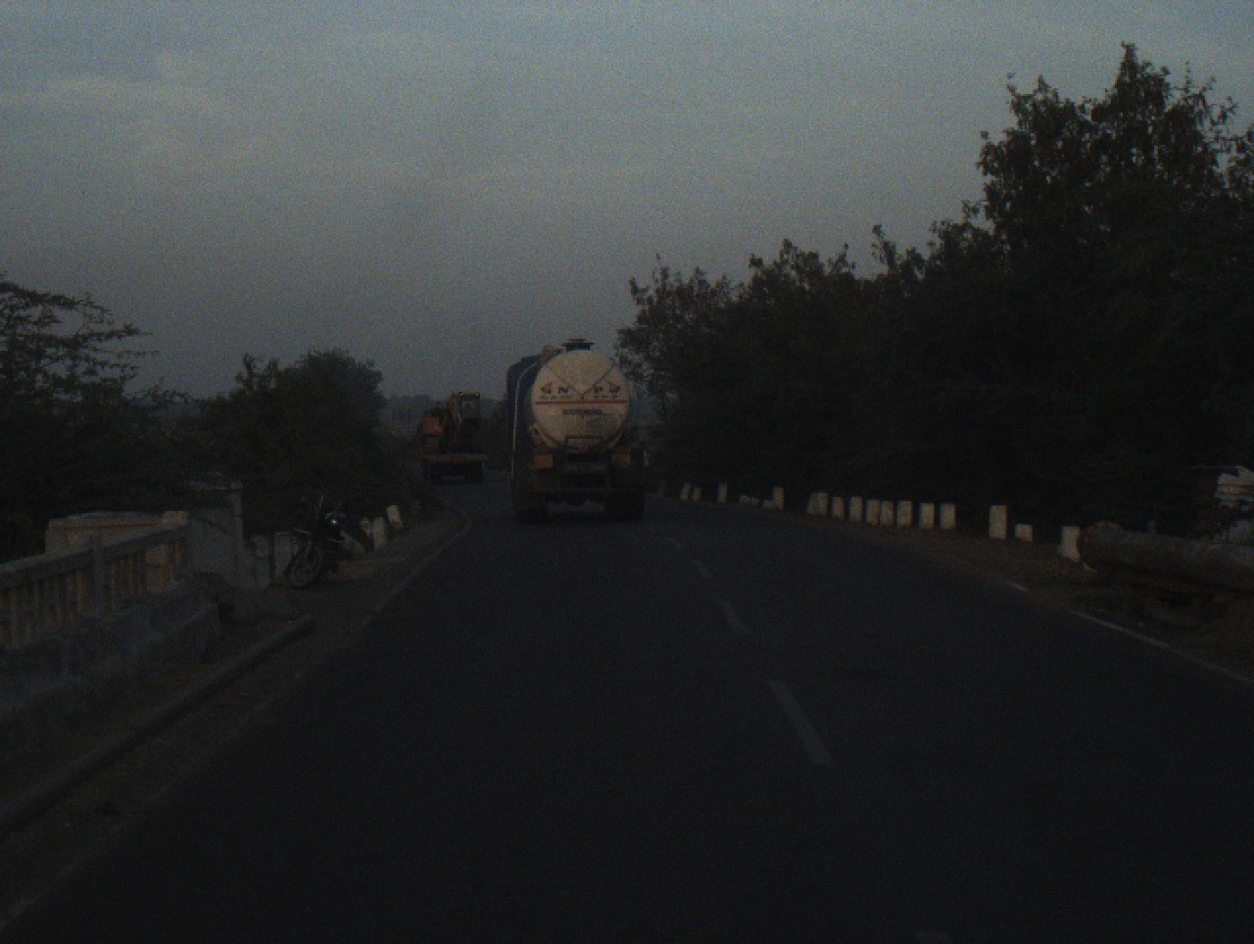motorcycle: (284, 481, 362, 585)
truck: (494, 333, 654, 529)
vehicle fallback: (405, 388, 496, 490)
